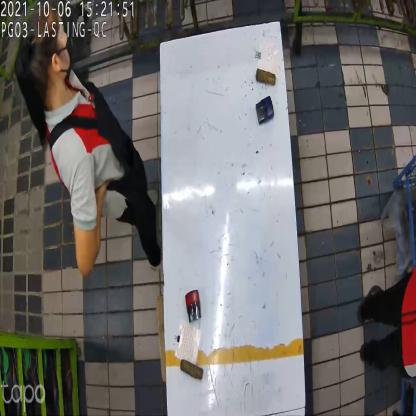stamp: (184, 291, 204, 326), (256, 95, 274, 128)
